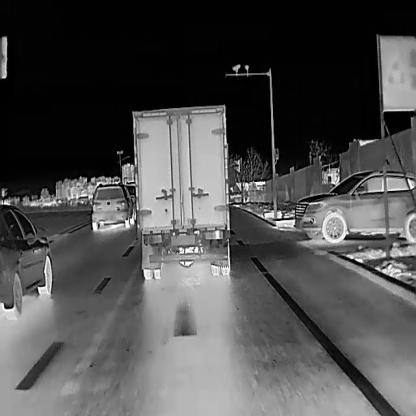car: (293, 169, 415, 243), (0, 203, 51, 319), (91, 181, 136, 230)
truck: (130, 102, 232, 279)
